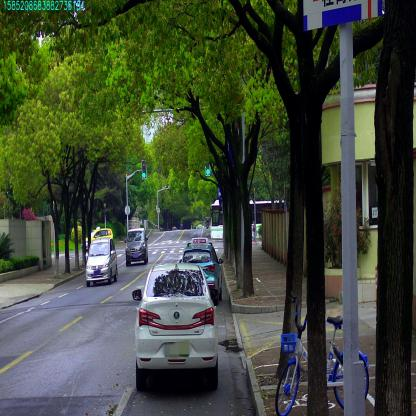traffic-light: (142, 161, 146, 178), (206, 161, 210, 176)
